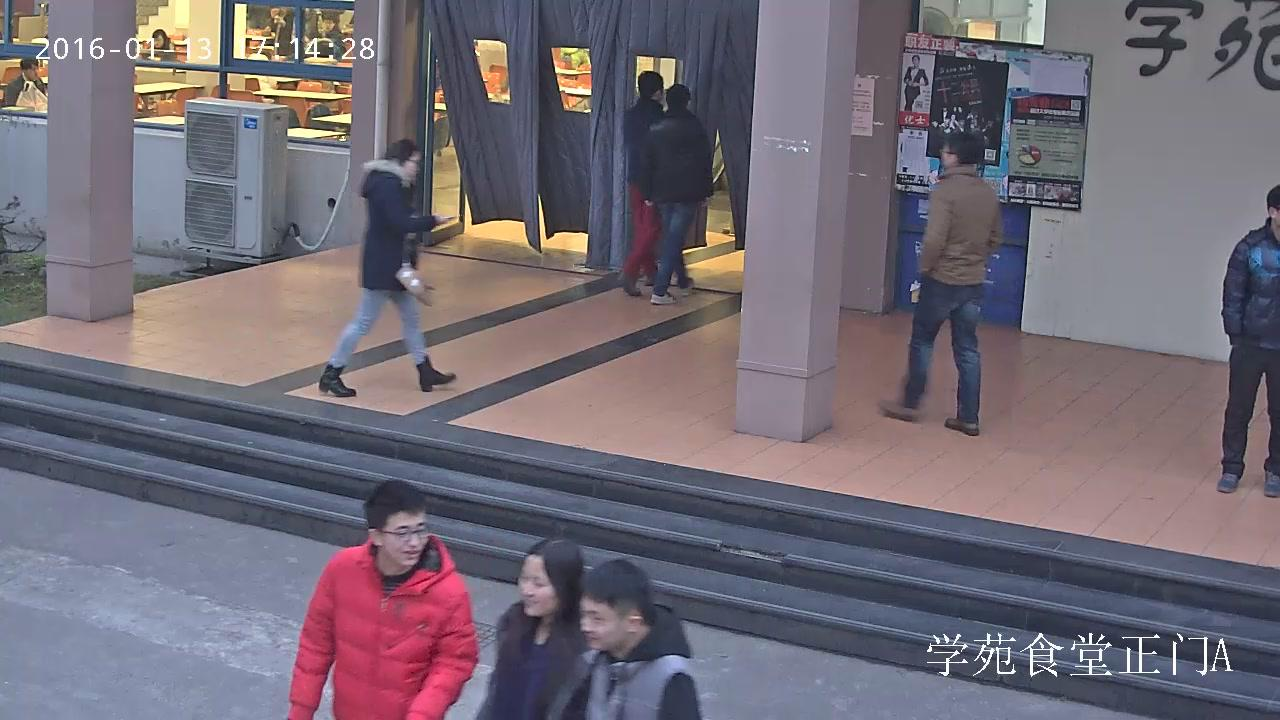person: (287, 479, 478, 720), (878, 134, 1001, 436), (317, 138, 456, 395), (545, 558, 701, 720), (468, 539, 584, 719), (1215, 183, 1278, 498), (638, 82, 710, 305), (621, 71, 668, 295), (3, 55, 45, 105), (307, 13, 345, 58), (263, 5, 295, 58), (903, 55, 927, 110), (140, 28, 177, 60)
